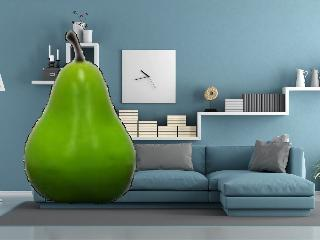pear: (20, 28, 140, 206)
